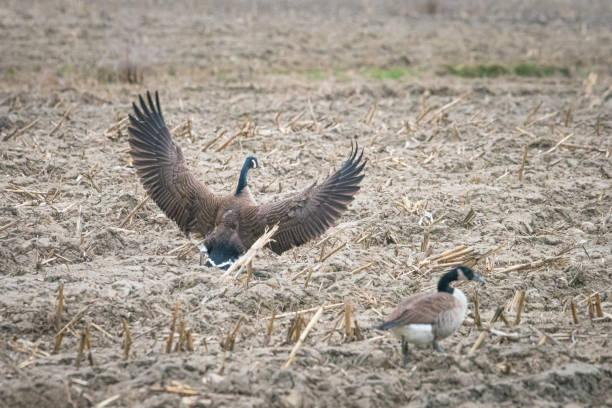Canadian-Goose: (124, 88, 368, 270), (380, 265, 483, 360)
